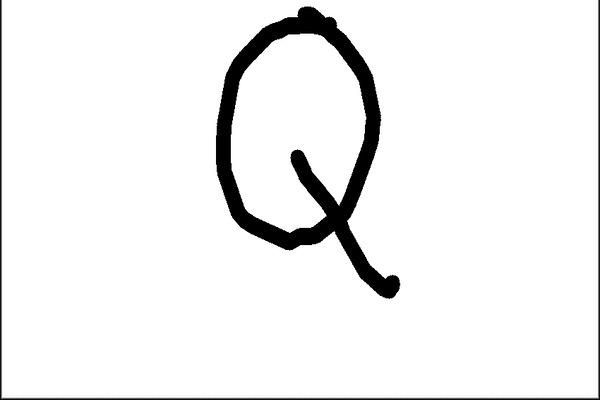Q: (209, 0, 409, 310)
